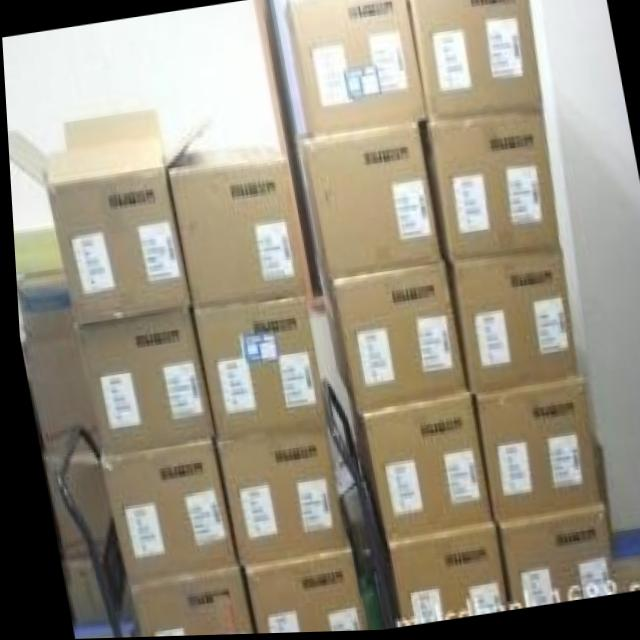box: (6, 109, 207, 328), (351, 464, 502, 626), (311, 260, 463, 418), (293, 122, 443, 278), (338, 386, 487, 542), (168, 142, 303, 310), (96, 438, 231, 589), (284, 0, 427, 139), (69, 313, 207, 456), (427, 117, 558, 261), (190, 299, 322, 440), (468, 380, 596, 523), (207, 433, 341, 567), (445, 256, 574, 394), (407, 0, 542, 122), (488, 507, 609, 607), (233, 547, 361, 635), (124, 567, 246, 638), (20, 328, 91, 448), (11, 227, 69, 338), (38, 429, 84, 560), (57, 431, 105, 554), (56, 559, 103, 627), (67, 626, 107, 639)
